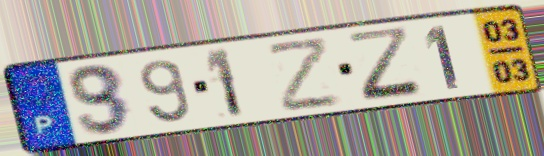1: (203, 45, 246, 122), (423, 23, 462, 91)
9: (64, 61, 136, 137), (136, 58, 194, 125)
Z: (344, 24, 429, 104), (264, 34, 344, 115)
